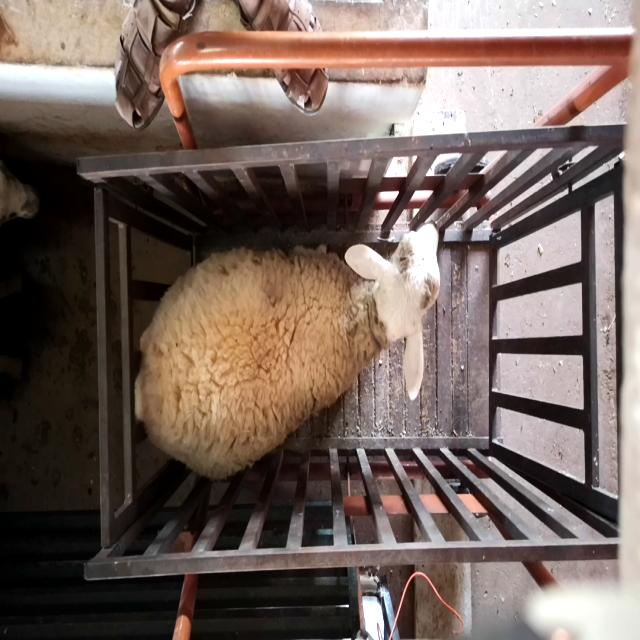sheep: (133, 219, 441, 481)
